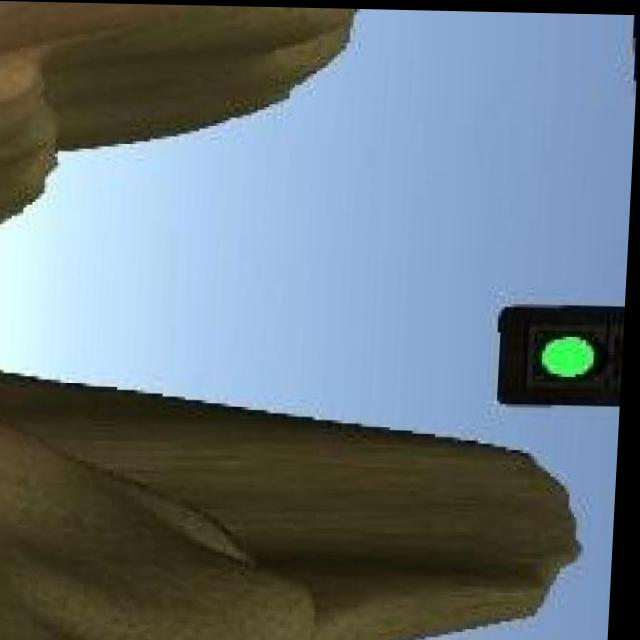green light: (501, 303, 625, 402)
